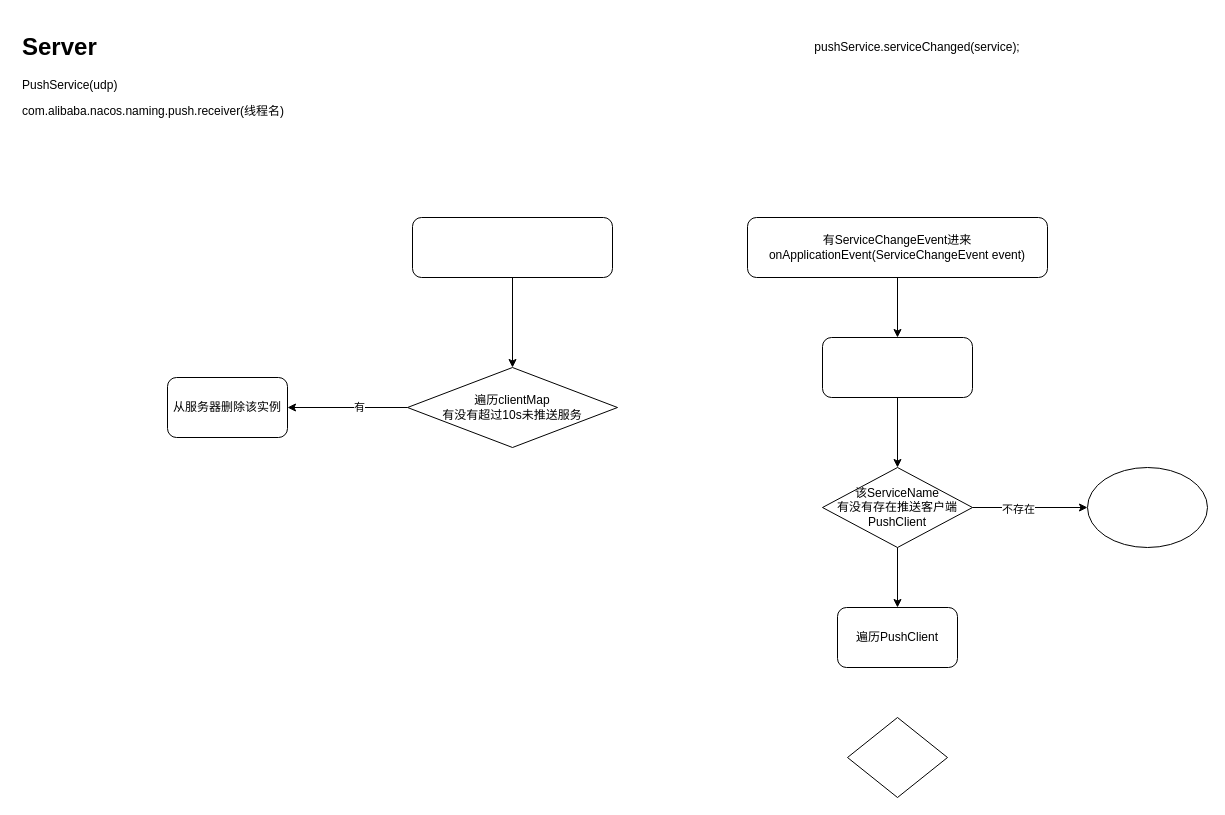
The diagram is 1225 pixels wide and 815 high, and some of its shapes have lost their labels. Each missing label, with the centre of its shape:
"1s后执行 ServiceChangeEvent" goes at (x=897, y=367).
"定时删除没推送服务线程 removeClientIfZombie (每20s定时执行1次)" goes at (x=512, y=247).
"结束" goes at (x=1147, y=507).
